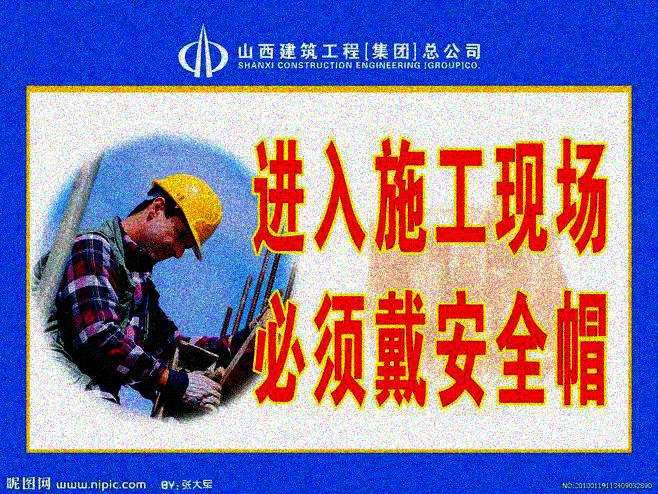helmet: (143, 171, 223, 264)
